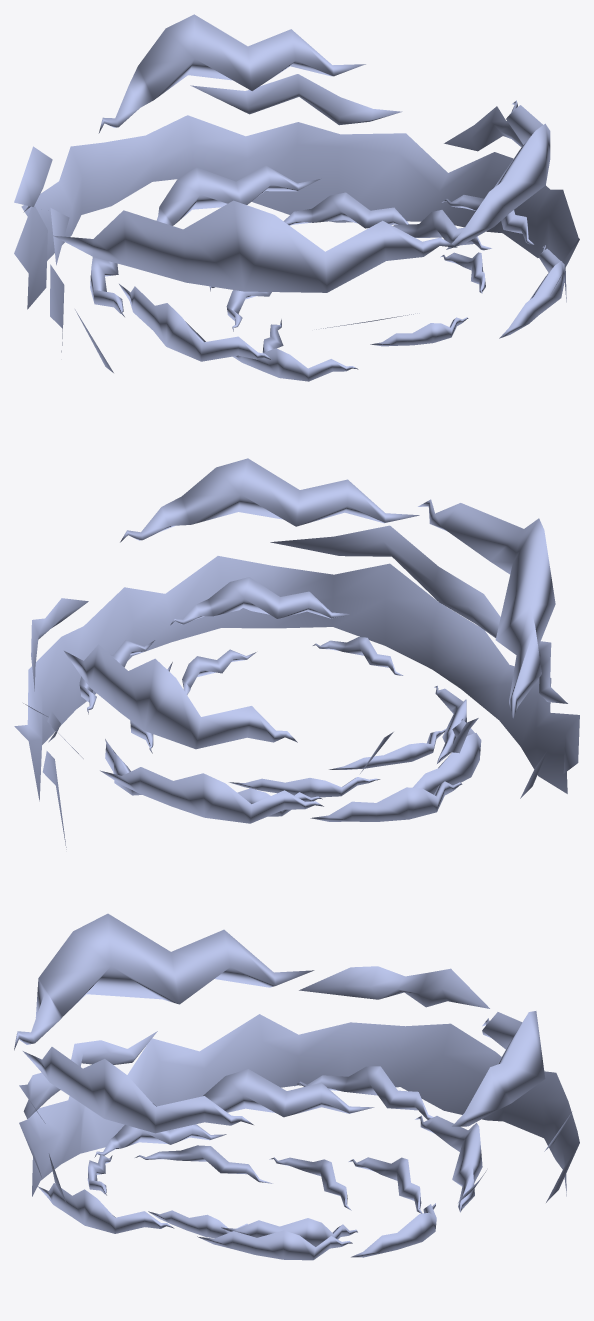
The model's file is Fog.gltf.
3 views of the same model, one above another, from view 1: azimuth 30°, elevation 25°; view 2: azimuth 150°, elevation 25°; view 3: azimuth 270°, elevation 25° (orthographic). The views are drawn at different scales.
Visible parts, largest first — view 1: Object_363, Object_16, Object_14, Object_15, Object_7, Object_3, Object_1, Object_10, Object_2, Object_11, Object_9, Object_12 (+3 smaller); view 2: Object_363, Object_16, Object_15, Object_14, Object_7, Object_10, Object_12, Object_3, Object_6, Object_5, Object_8, Object_9 (+3 smaller); view 3: Object_363, Object_16, Object_15, Object_14, Object_3, Object_10, Object_13, Object_12, Object_7, Object_1, Object_2, Object_11 (+5 smaller).
Part boxes in pixels (x1,y1,x2,y2): Object_363: [14, 74, 579, 372]; Object_16: [53, 200, 457, 292]; Object_14: [98, 14, 365, 133]; Object_15: [446, 100, 550, 249]; Object_7: [156, 165, 320, 225]; Object_3: [119, 284, 270, 361]; Object_1: [283, 192, 408, 228]; Object_10: [499, 245, 564, 338]; Object_2: [233, 348, 358, 381]; Object_11: [393, 210, 491, 250]; Object_9: [370, 317, 468, 346]; Object_12: [90, 257, 124, 316]; Object_363: [14, 525, 579, 849]; Object_16: [418, 499, 555, 718]; Object_15: [120, 458, 419, 542]; Object_14: [64, 644, 297, 749]; Object_7: [100, 767, 323, 823]; Object_10: [170, 577, 349, 625]; Object_12: [310, 781, 462, 821]; Object_3: [412, 718, 481, 794]; Object_6: [229, 777, 380, 797]; Object_5: [329, 729, 445, 769]; Object_8: [182, 649, 256, 694]; Object_9: [312, 637, 403, 675]; Object_363: [19, 966, 579, 1203]; Object_16: [14, 913, 314, 1050]; Object_15: [23, 1047, 253, 1133]; Object_14: [452, 1011, 545, 1126]; Object_3: [203, 1069, 374, 1117]; Object_10: [37, 1183, 174, 1233]; Object_13: [197, 1230, 352, 1260]; Object_12: [294, 1066, 433, 1119]; Object_7: [415, 1115, 482, 1212]; Object_1: [351, 1203, 436, 1257]; Object_2: [94, 1124, 226, 1157]; Object_11: [221, 1218, 357, 1246].
Size of the model in its own units: 1813 by 854 by 1903.
